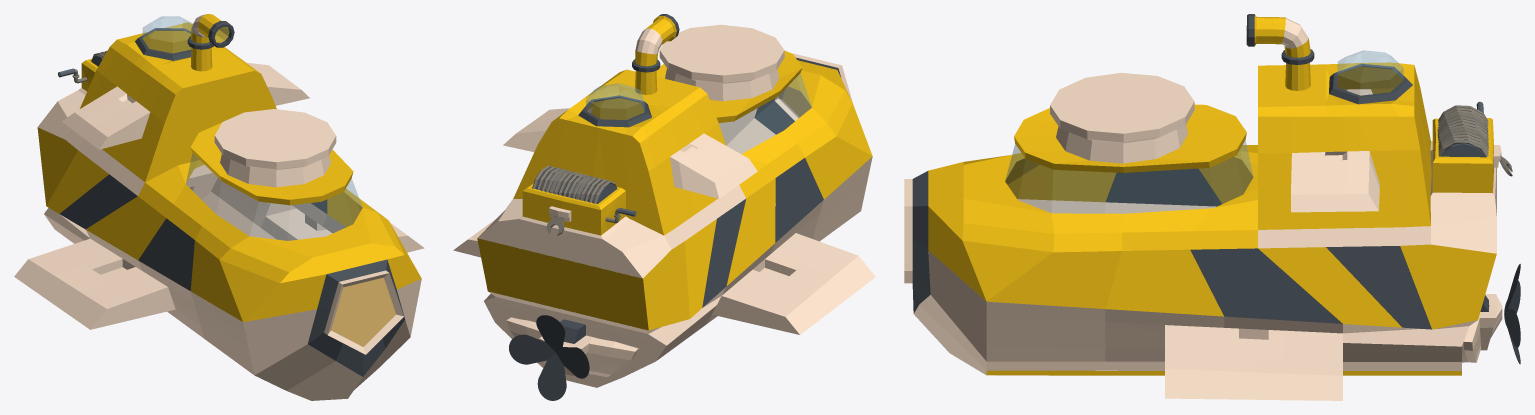
The model's file is submarine.glb.
3 views of the same model, side by side, from view 1: azimuth 30°, elevation 25°; view 2: azimuth 150°, elevation 25°; view 3: azimuth 270°, elevation 25° (orthographic). The views are drawn at different scales.
Visible parts, largest first — view 1: Cylinder.001; view 2: Cylinder.001; view 3: Cylinder.001.
Part boxes in pixels (box(x1,y1,x2,y2)): Cylinder.001: box(14, 14, 424, 400); Cylinder.001: box(453, 14, 875, 400); Cylinder.001: box(904, 14, 1520, 400).
Bounding box in the file's own units: 3.74 × 3.1 × 4.97.
